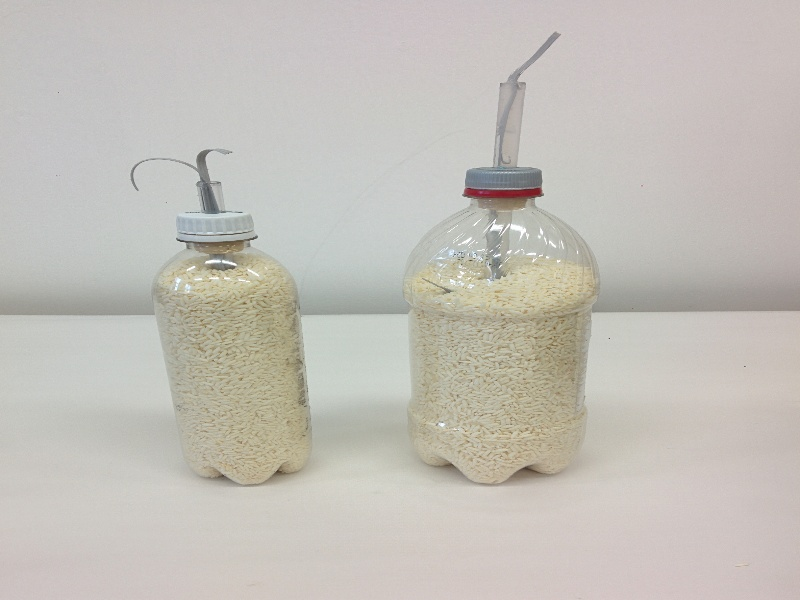Plastic bottle: (380, 143, 610, 493), (131, 177, 342, 498)
